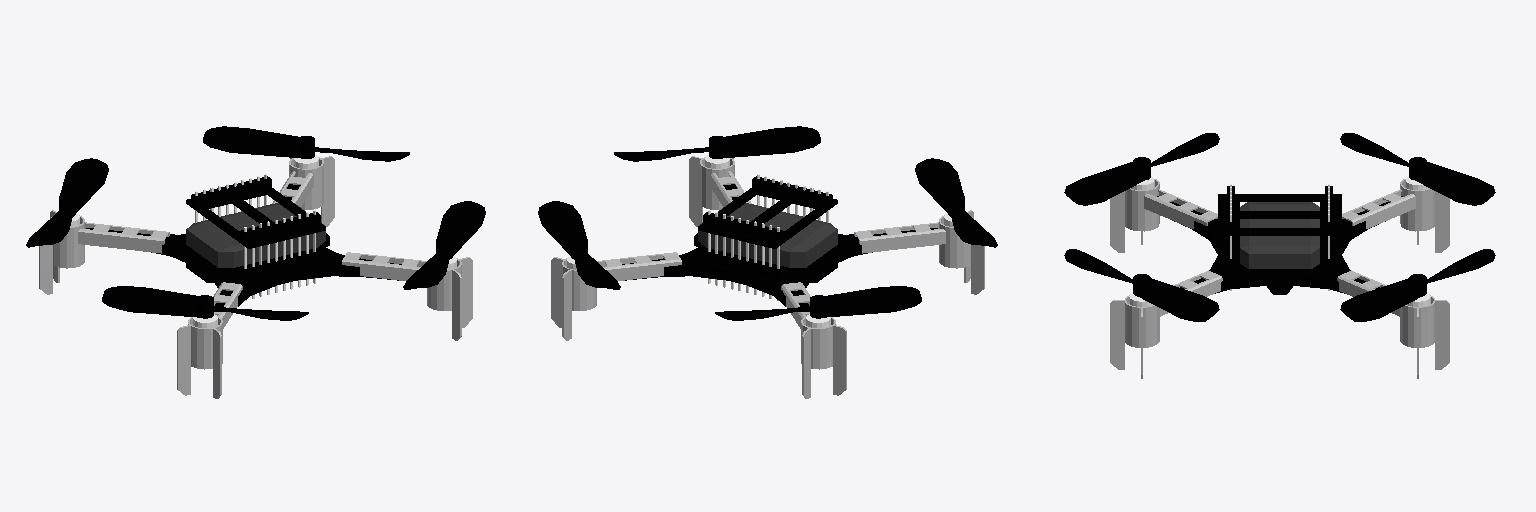
3 views of the same model, side by side, from view 1: azimuth 30°, elevation 25°; view 2: azimuth 150°, elevation 25°; view 3: azimuth 270°, elevation 25° (orthographic).
Visible parts, largest first — view 1: Motor_Mount, Propellor, PCB, Battery_Holder, Battery, Pin_Headers, Cylinder; view 2: Motor_Mount, Propellor, PCB, Battery_Holder, Battery, Pin_Headers, Cylinder; view 3: Motor_Mount, Propellor, PCB, Battery, Battery_Holder, Cylinder.
Boxes of the visible parts, box(x1,y1,x2,y2) form: Motor_Mount: box(39, 156, 472, 398); Propellor: box(26, 126, 485, 320); PCB: box(86, 184, 401, 306); Battery_Holder: box(186, 176, 325, 248); Battery: box(186, 203, 325, 267); Pin_Headers: box(195, 174, 315, 300); Cylinder: box(70, 155, 456, 327); Motor_Mount: box(551, 156, 984, 398); Propellor: box(538, 126, 997, 320); PCB: box(622, 184, 937, 306); Battery_Holder: box(698, 176, 837, 248); Battery: box(698, 203, 837, 267); Pin_Headers: box(708, 174, 828, 300); Cylinder: box(567, 155, 953, 327); Motor_Mount: box(1110, 179, 1449, 378); Propellor: box(1064, 133, 1495, 321); PCB: box(1157, 196, 1402, 294); Battery: box(1240, 202, 1319, 268); Battery_Holder: box(1218, 186, 1341, 235); Cylinder: box(1129, 176, 1430, 306).
Size of the model in its own units: 0.0992 by 0.0272 by 0.0969.